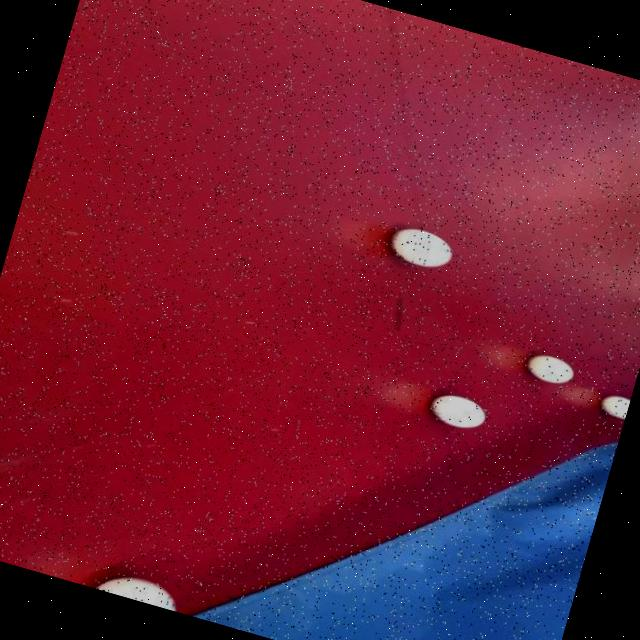ping-pong-ball: (383, 218, 462, 277), (422, 384, 494, 436), (521, 346, 581, 390), (594, 388, 630, 421)
